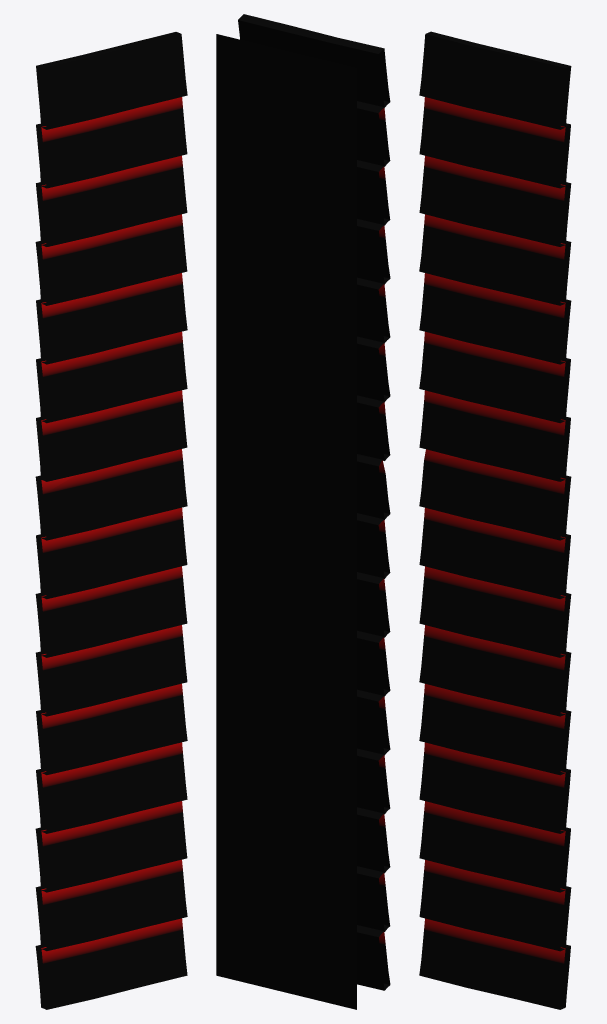
Rendered from SM_House_ExtWall_50CM.fbx.
3 views of the same model, side by side, from view 1: azimuth 30°, elevation 25°; view 2: azimuth 150°, elevation 25°; view 3: azimuth 330°, elevation 25° (orthographic).
Visible parts, largest first — view 1: SM_House_ExtWall_50CM; view 2: SM_House_ExtWall_50CM; view 3: SM_House_ExtWall_50CM.
Part boxes in pixels (x1=…): SM_House_ExtWall_50CM: x1=35, y1=32, x2=187, y2=1009; SM_House_ExtWall_50CM: x1=216, y1=14, x2=390, y2=1009; SM_House_ExtWall_50CM: x1=419, y1=31, x2=571, y2=1009.
Size of the model in its own units: 50.37 by 20.33 by 320.
